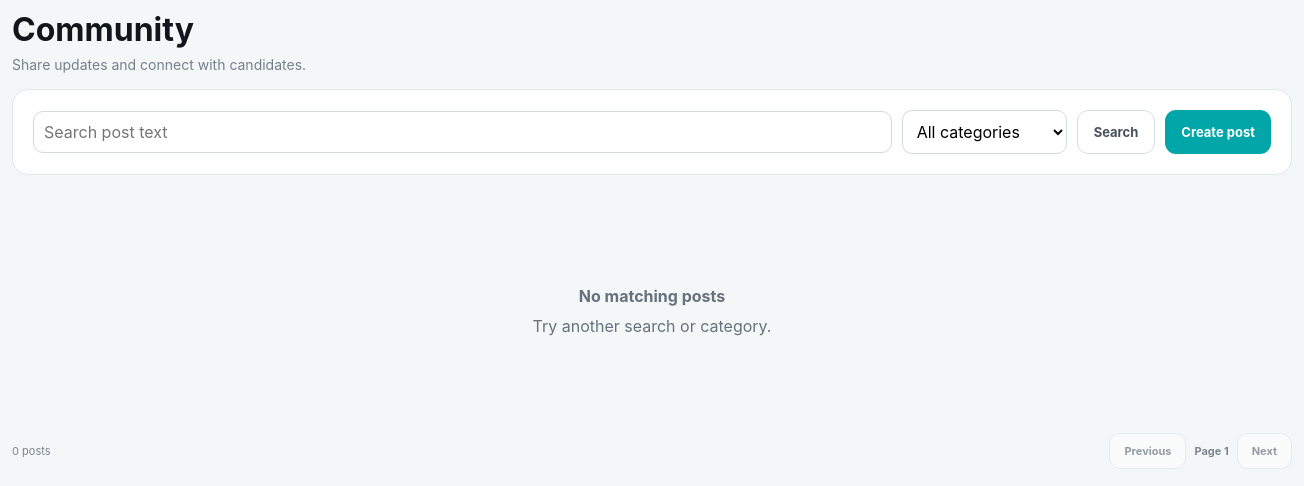
it: Community pages › prevents duplicate publishing and preserves input on failure
The image size is (1304, 486).
Check: the text "No matching posts" is shown, box [579,286,725,306]
Click the button "Create post" at (1218, 132), box [1165,110,1271,154]
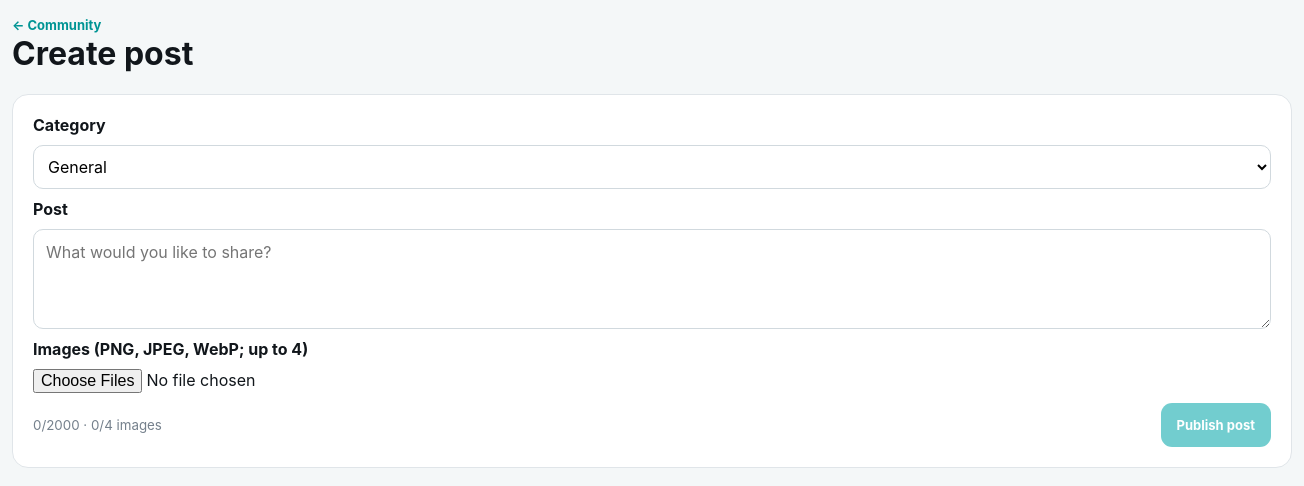
Type "Keep this text" into the text box labelled "Post" at (652, 279), box [33,229,1271,329]
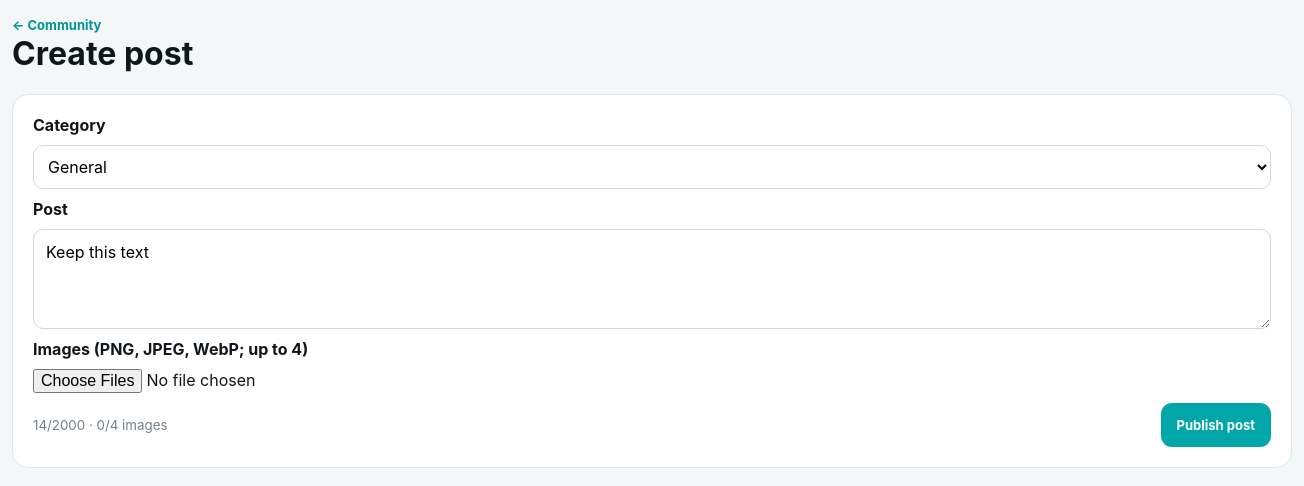
Click the button "Publish post" at (1216, 425), box [1161,403,1271,447]
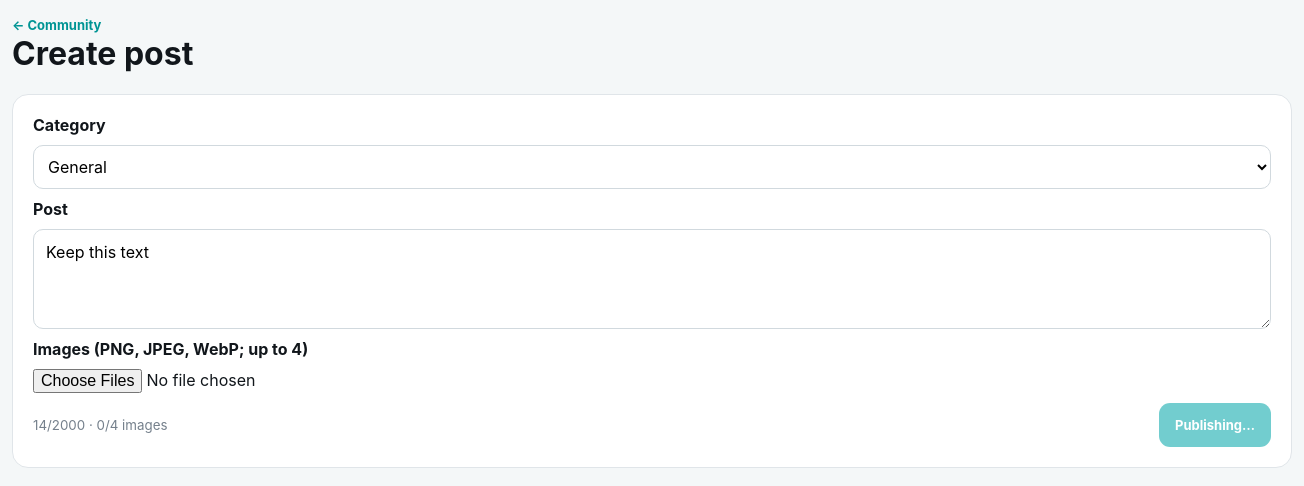
Check: the button named "Publish post" is disabled
Click the button named "Publish post" at (1215, 425), box [1159,403,1271,447]
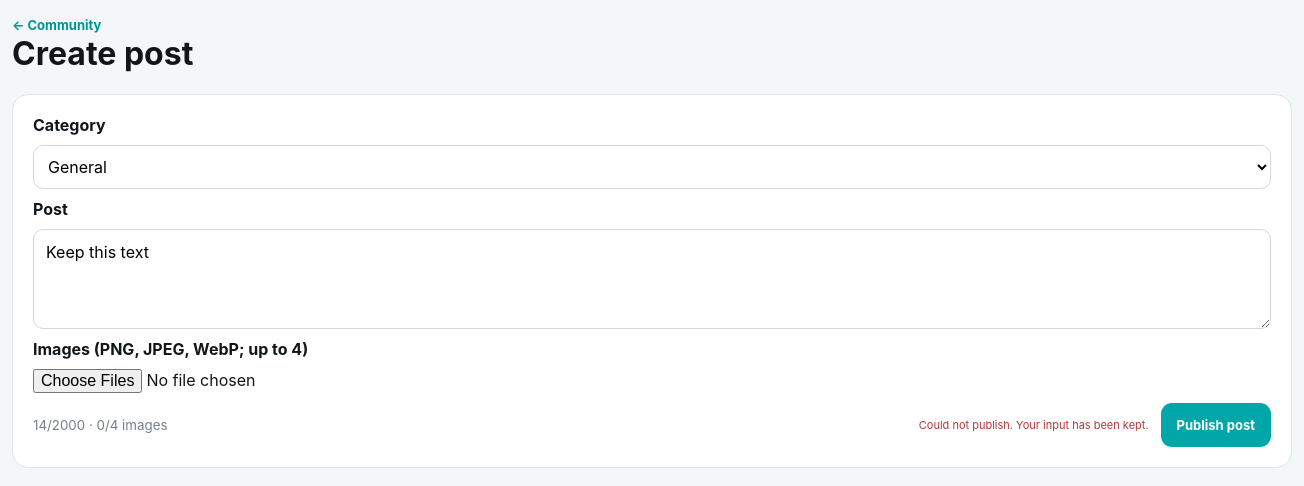
Check: the text "Could not publish. Your input has been kept." is shown, box [919,418,1149,432]
